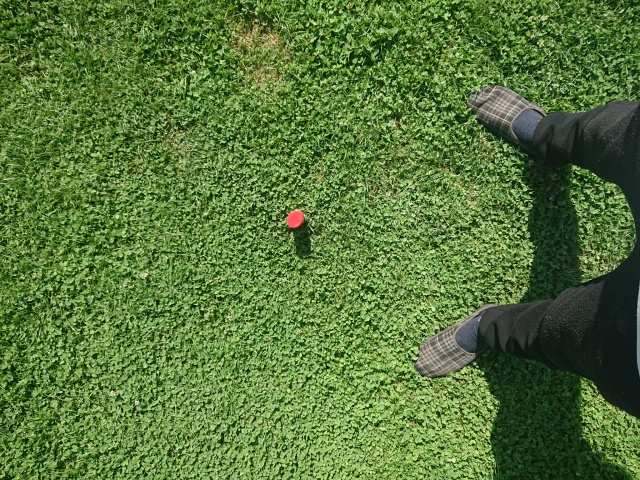Kotanyi Curry Spices Mix 70g: (285, 207, 306, 230)
